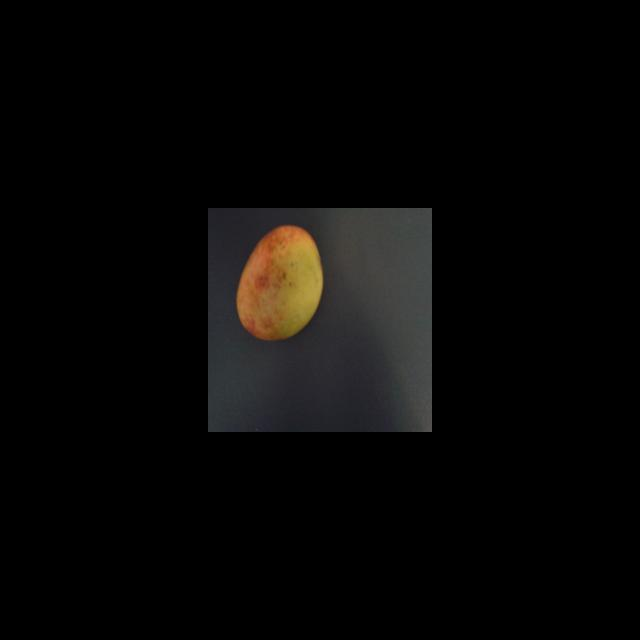Mango: (235, 224, 323, 341)
